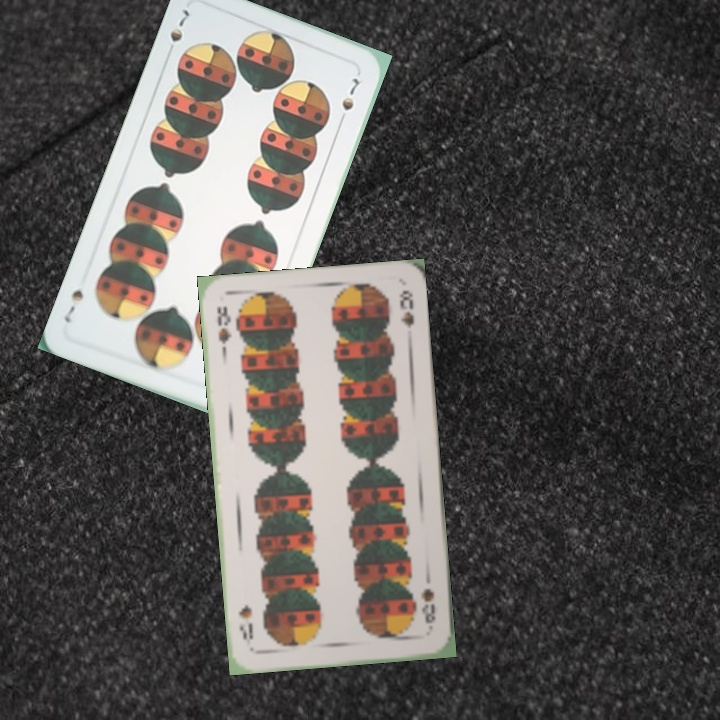S7: (162, 4, 192, 60)
S8: (212, 302, 235, 359), (416, 584, 438, 633)
